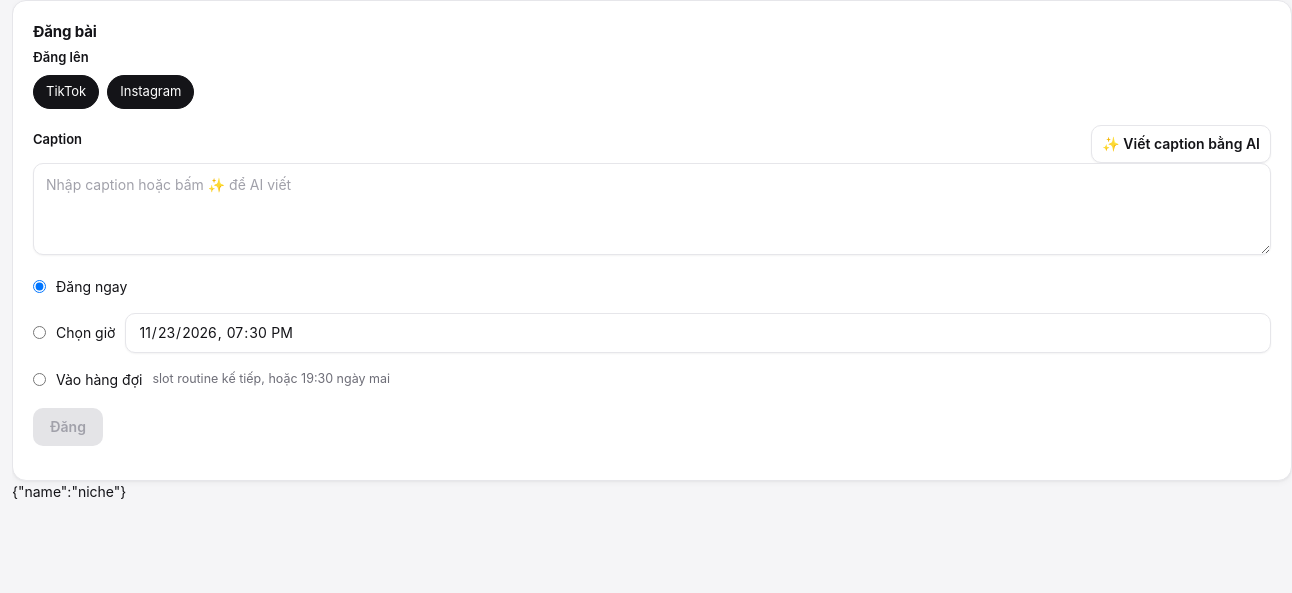
Test: a caption failure shows 'Chưa viết được caption'
What coordinates should you click on to do the following:
click the button "✨ Viết caption bằng AI"
I would click on:
 (1181, 144)
Its box is [1091,124,1271,162].
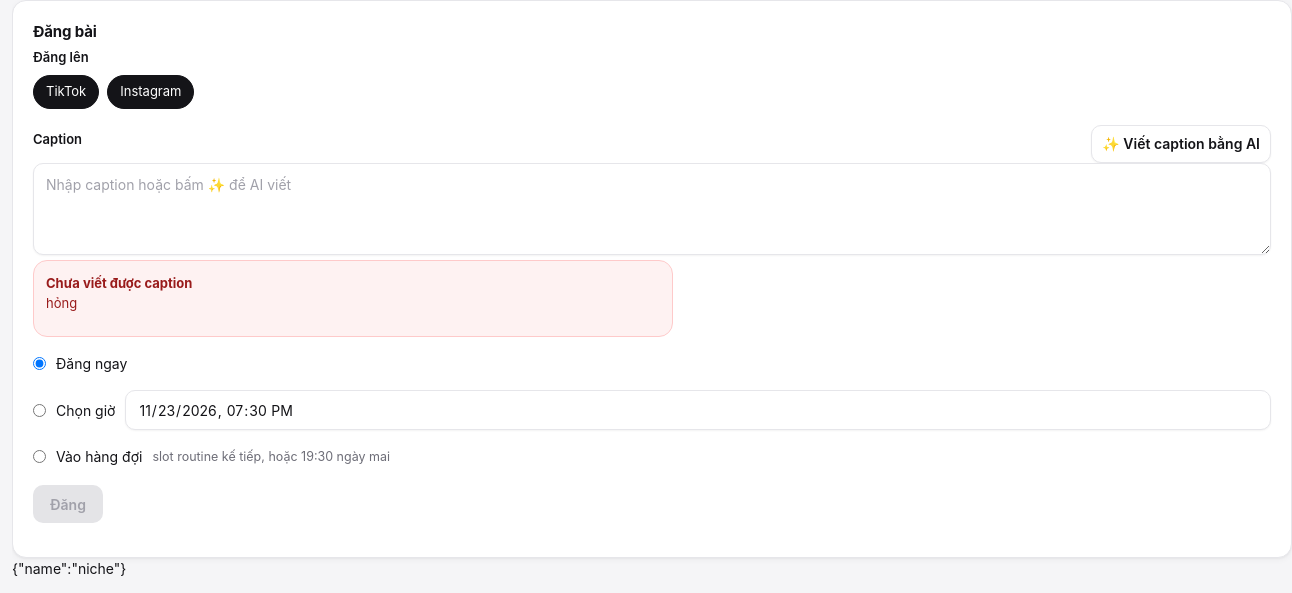
Now the text "Chưa viết được caption" is shown, box [46,274,192,290]
